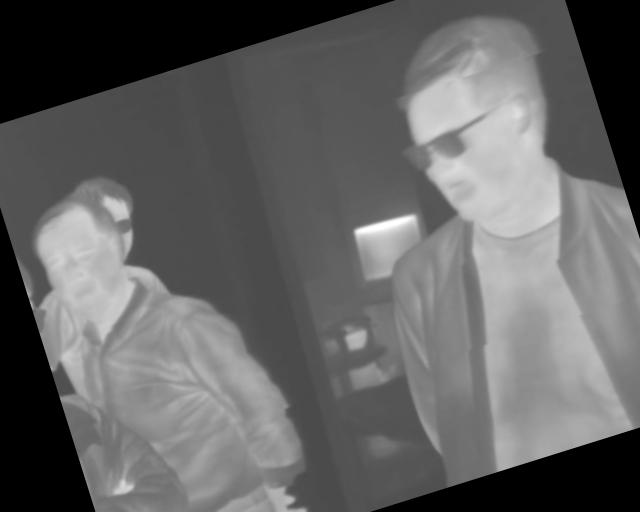face: (374, 1, 585, 233), (22, 185, 142, 328)
